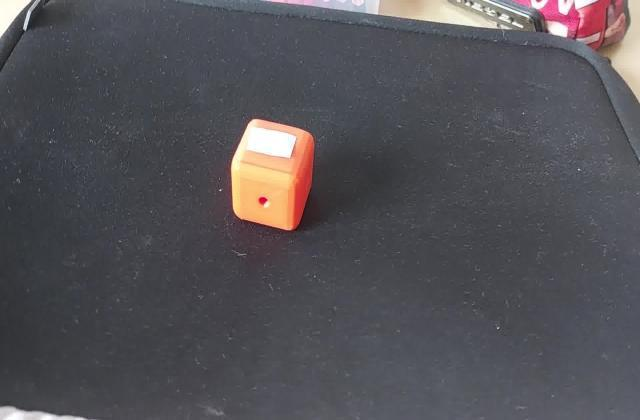cube: (225, 115, 316, 237)
white: (249, 129, 302, 162)
